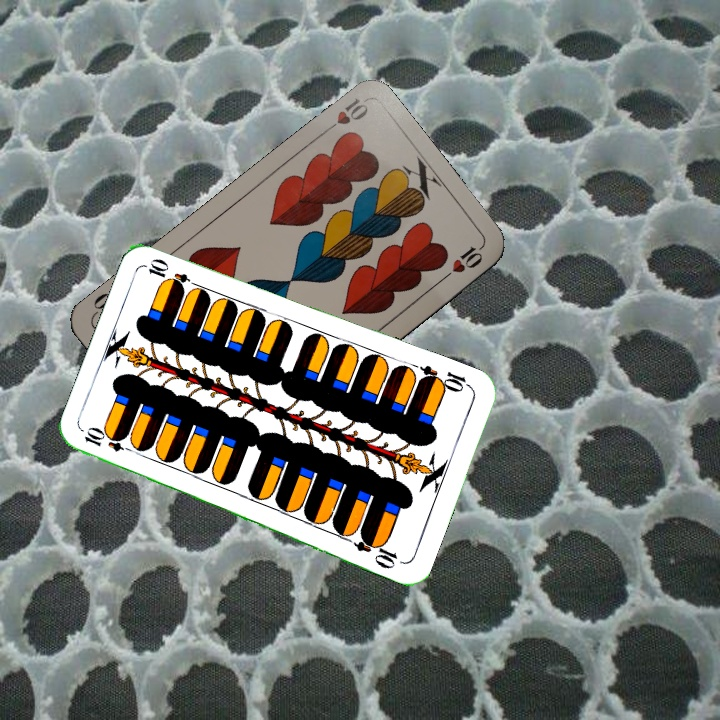E10: (415, 361, 474, 395), (80, 425, 139, 456)
H10: (317, 93, 371, 137)
